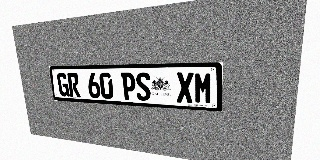0: (99, 73, 114, 99)
6: (87, 73, 101, 98)
G: (56, 73, 70, 97)
M: (194, 72, 213, 104)
P: (121, 72, 136, 100)
R: (67, 73, 81, 97)
S: (135, 72, 151, 101)
X: (176, 72, 194, 103)
